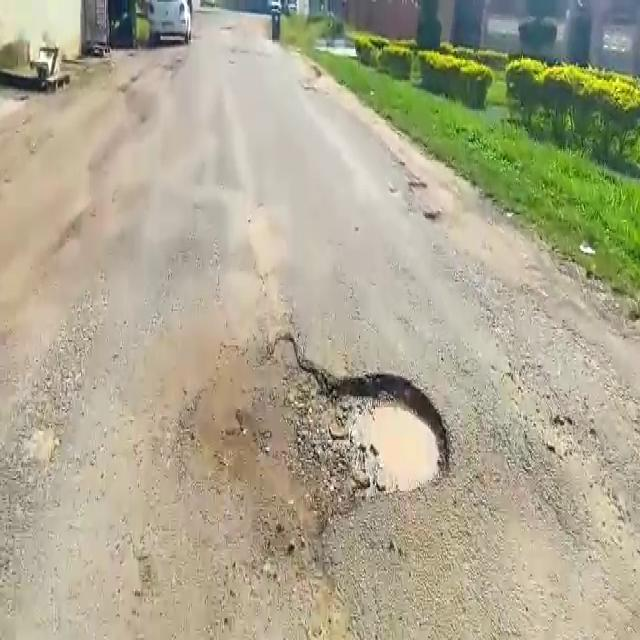Buraco: (170, 333, 456, 542)
